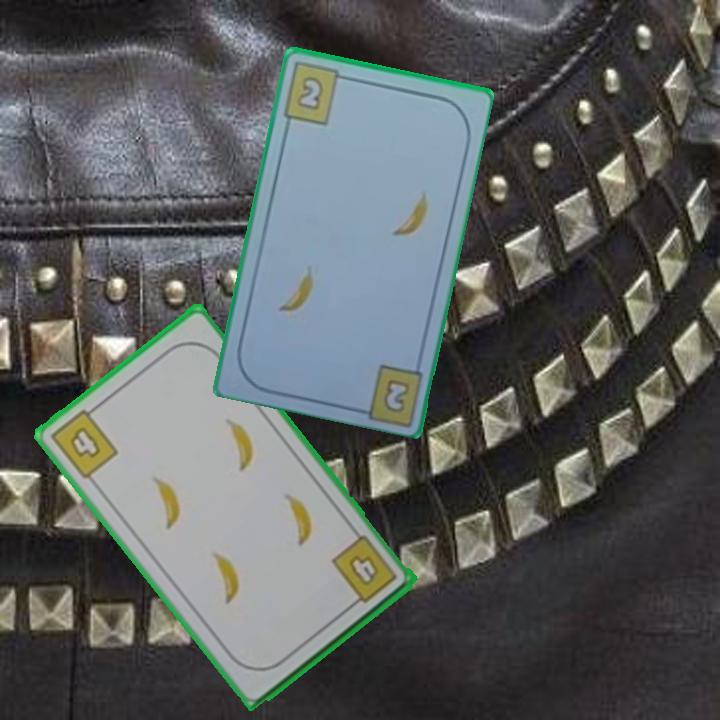2b: (279, 59, 353, 128), (379, 374, 413, 416)
4b: (46, 401, 121, 482), (327, 531, 401, 611)
